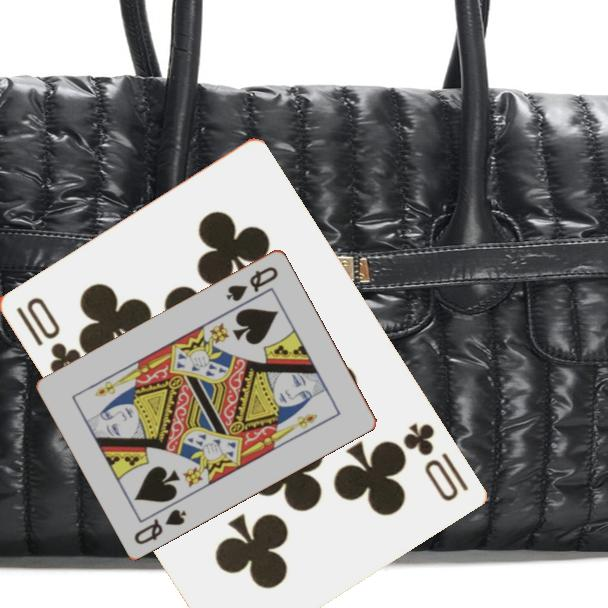c10: (398, 419, 471, 505), (11, 293, 84, 378)
s12: (130, 505, 190, 547), (222, 263, 281, 304)
